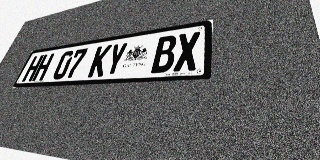0: (51, 50, 75, 80)
7: (64, 48, 88, 79)
B: (151, 35, 178, 73)
H: (32, 53, 55, 81), (21, 55, 44, 82)
K: (87, 44, 112, 77)
X: (173, 31, 200, 72)
Y: (103, 42, 129, 76)
